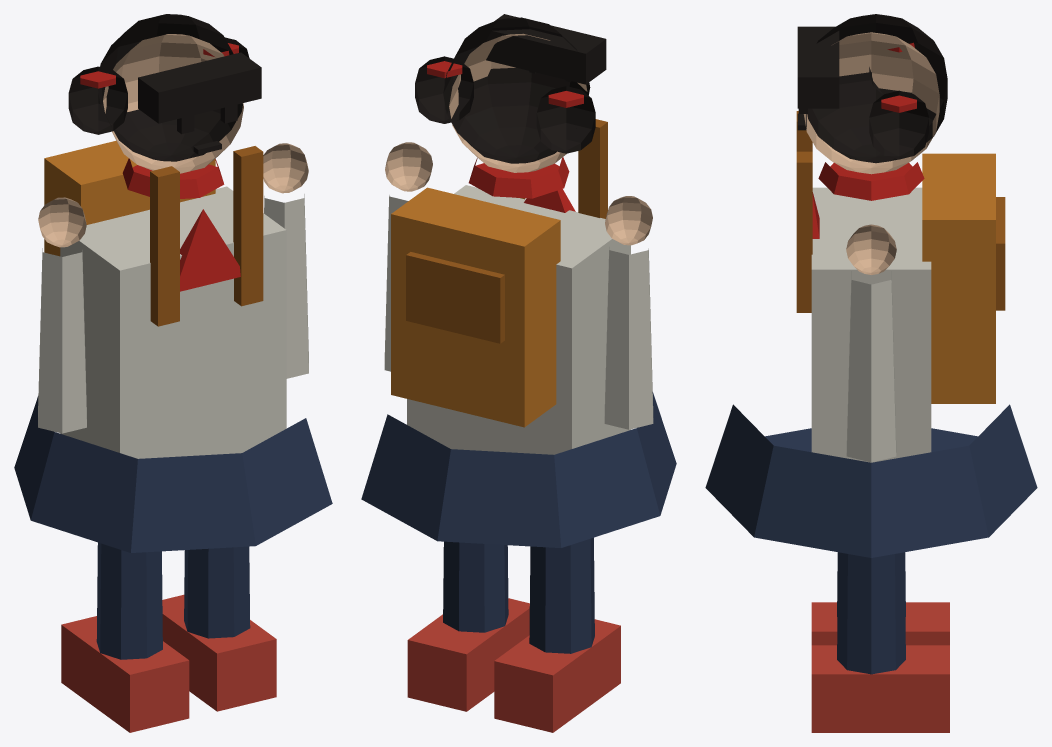
File: student-girl.glb
The picture shows the model from 3 angles, left to right: view 1: azimuth 30°, elevation 25°; view 2: azimuth 150°, elevation 25°; view 3: azimuth 270°, elevation 25°; orthographic projection.
Parts seen in each view (by area): view 1: StudentGirl; view 2: StudentGirl; view 3: StudentGirl.
Part boxes in pixels (left/top/right/bottom): StudentGirl: left=14, top=14, right=332, bottom=732; StudentGirl: left=361, top=14, right=676, bottom=732; StudentGirl: left=705, top=14, right=1037, bottom=732.
Bounding box in the file's own units: 0.72 × 1.62 × 0.72.
